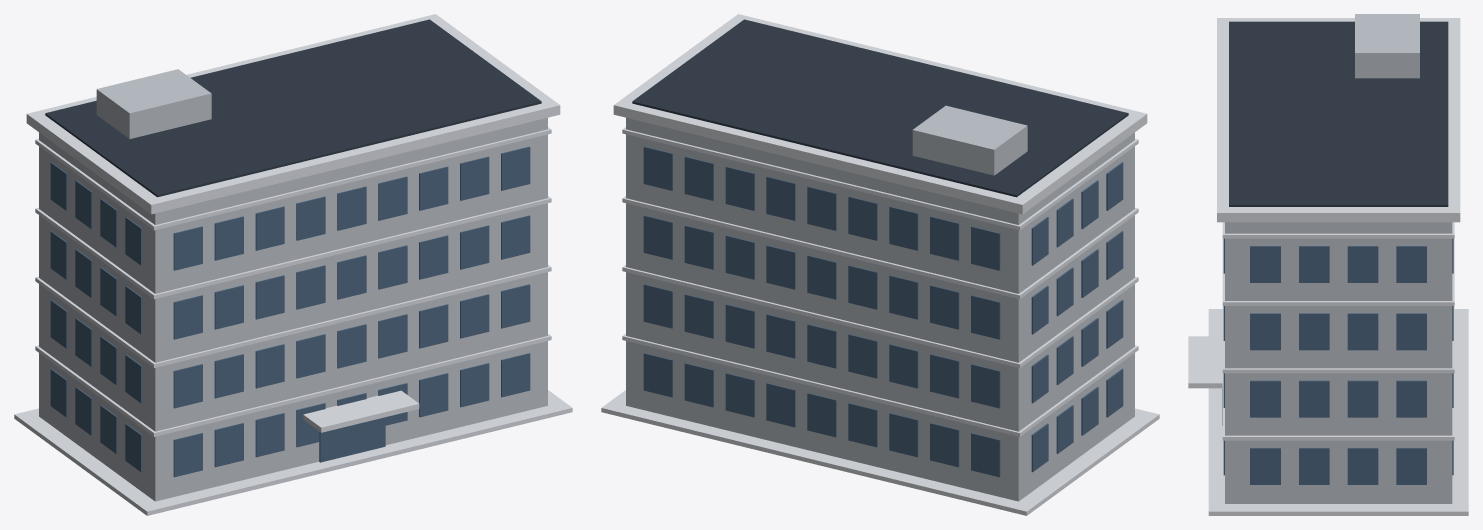
The model's file is building.glb.
3 views of the same model, side by side, from view 1: azimuth 30°, elevation 25°; view 2: azimuth 150°, elevation 25°; view 3: azimuth 270°, elevation 25° (orthographic). The views are drawn at different scales.
Visible parts, largest first — view 1: P15 Teaching Building; view 2: P15 Teaching Building; view 3: P15 Teaching Building.
Part boxes in pixels (x1=…): P15 Teaching Building: x1=14, y1=14, x2=572, y2=515; P15 Teaching Building: x1=601, y1=14, x2=1159, y2=515; P15 Teaching Building: x1=1188, y1=14, x2=1468, y2=515.
Bounding box in the file's own units: 24 × 18 × 14.
